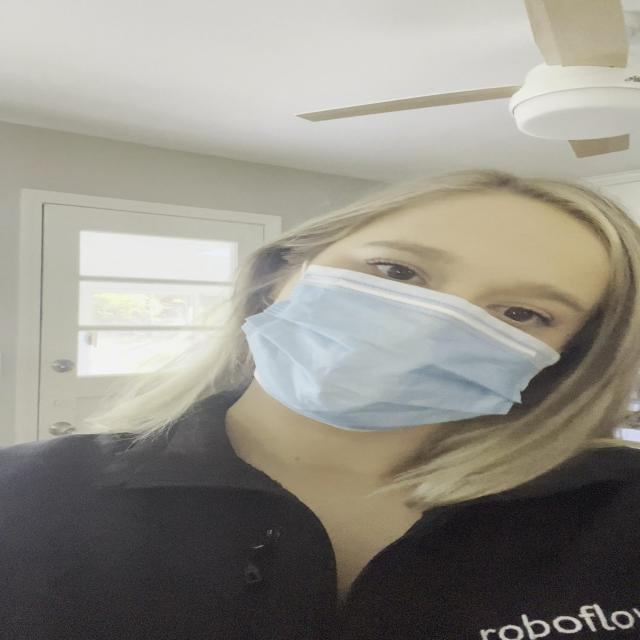Mask: (216, 197, 619, 441)
